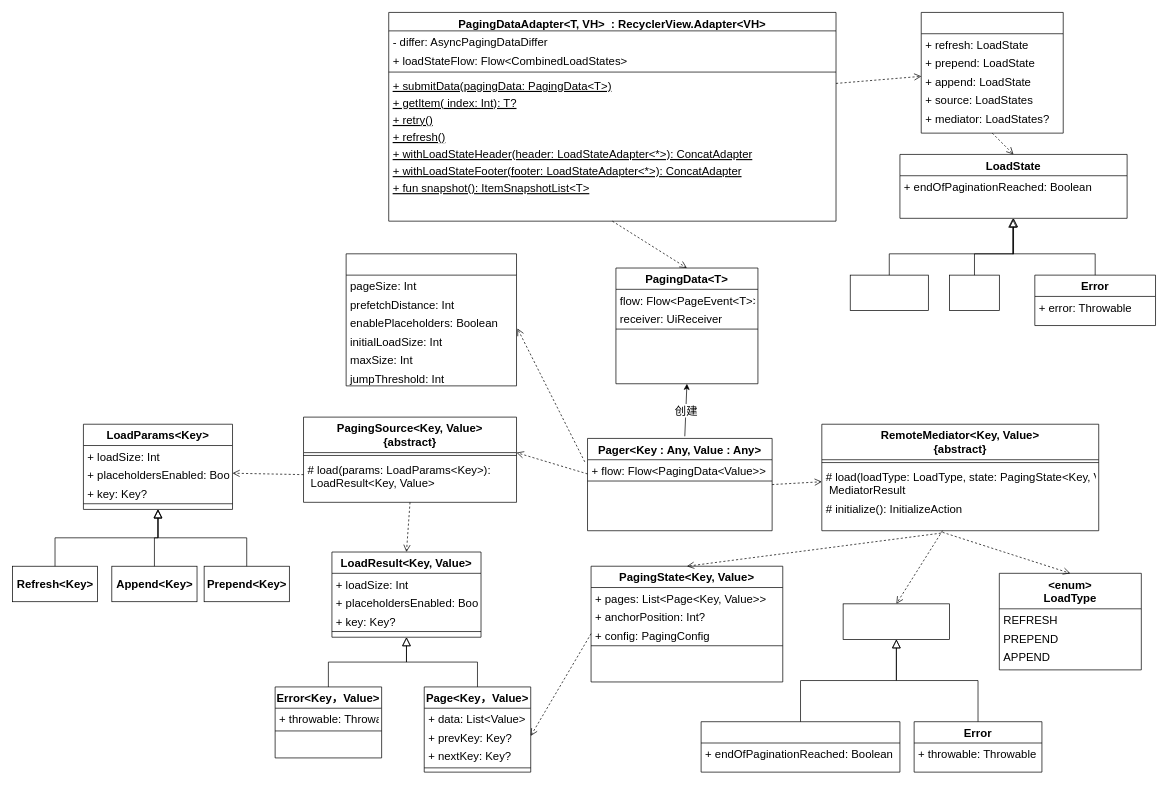
The diagram is 1168 pixels wide and 785 high, and some of its shapes have lost their labels. Each missing label, with the box of its shape:
CombinedLoadStates: (921, 12, 1063, 133)
Loading: (949, 274, 999, 311)
MediatorResult: (842, 603, 950, 639)
NotLoading: (850, 274, 928, 311)
PagingConfig: (345, 253, 517, 386)
Success: (700, 721, 900, 772)
